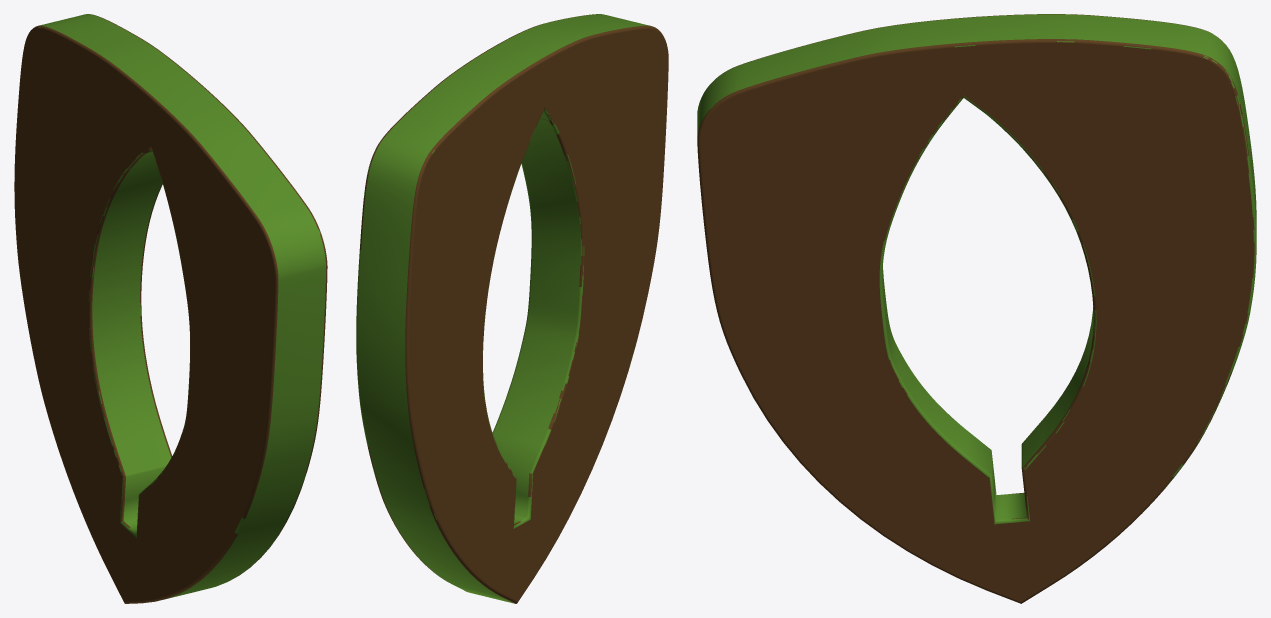
Rendered from mongodb-transformed.glb.
3 views of the same model, side by side, from view 1: azimuth 30°, elevation 25°; view 2: azimuth 150°, elevation 25°; view 3: azimuth 270°, elevation 25° (orthographic). The views are drawn at different scales.
Visible parts, largest first — view 1: Curve; view 2: Curve; view 3: Curve.
Boxes of the visible parts, x1,y1,x2,y2 form: Curve: [14, 14, 327, 603]; Curve: [356, 14, 668, 603]; Curve: [697, 14, 1256, 603].
Bounding box in the file's own units: 0.0022 × 0.0213 × 0.0191.
